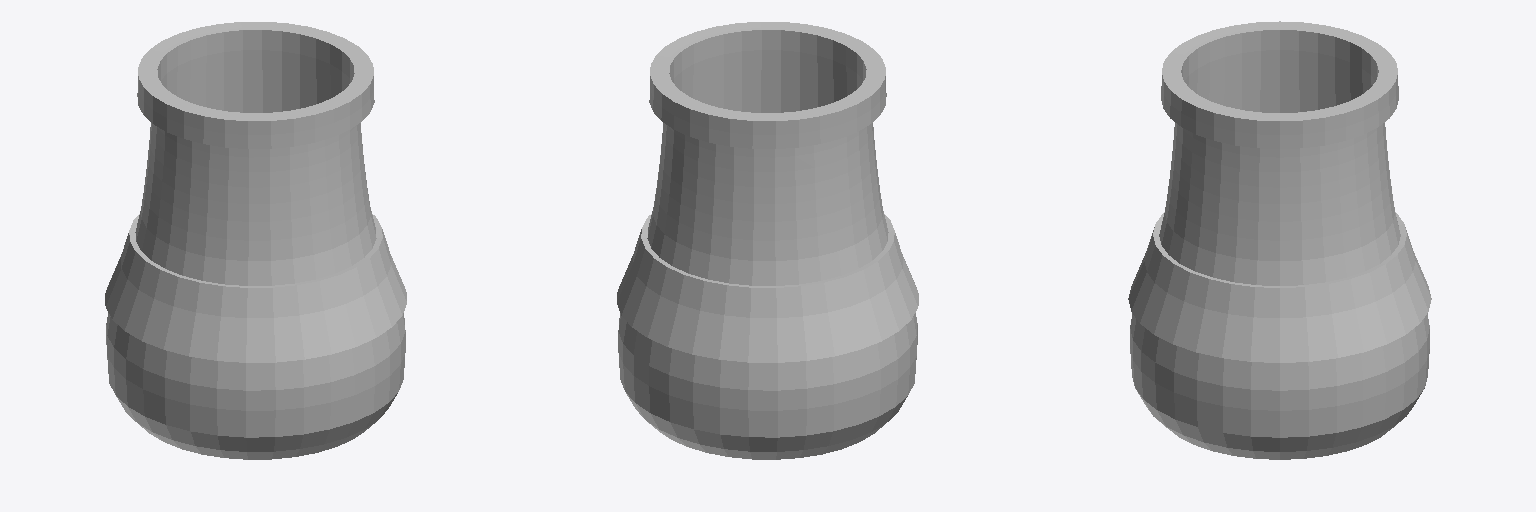
Rendered from cannon_7.obj.
3 views of the same model, side by side, from view 1: azimuth 30°, elevation 25°; view 2: azimuth 150°, elevation 25°; view 3: azimuth 270°, elevation 25° (orthographic).
Visible parts, largest first — view 1: 炮管.003_柱体.009; view 2: 炮管.003_柱体.009; view 3: 炮管.003_柱体.009.
Part boxes in pixels (x1,y1,x2,y2): 炮管.003_柱体.009: (105, 22, 406, 459); 炮管.003_柱体.009: (617, 22, 918, 459); 炮管.003_柱体.009: (1128, 21, 1431, 459).
Size of the model in its own units: 0.9226 by 1.24 by 0.9226.